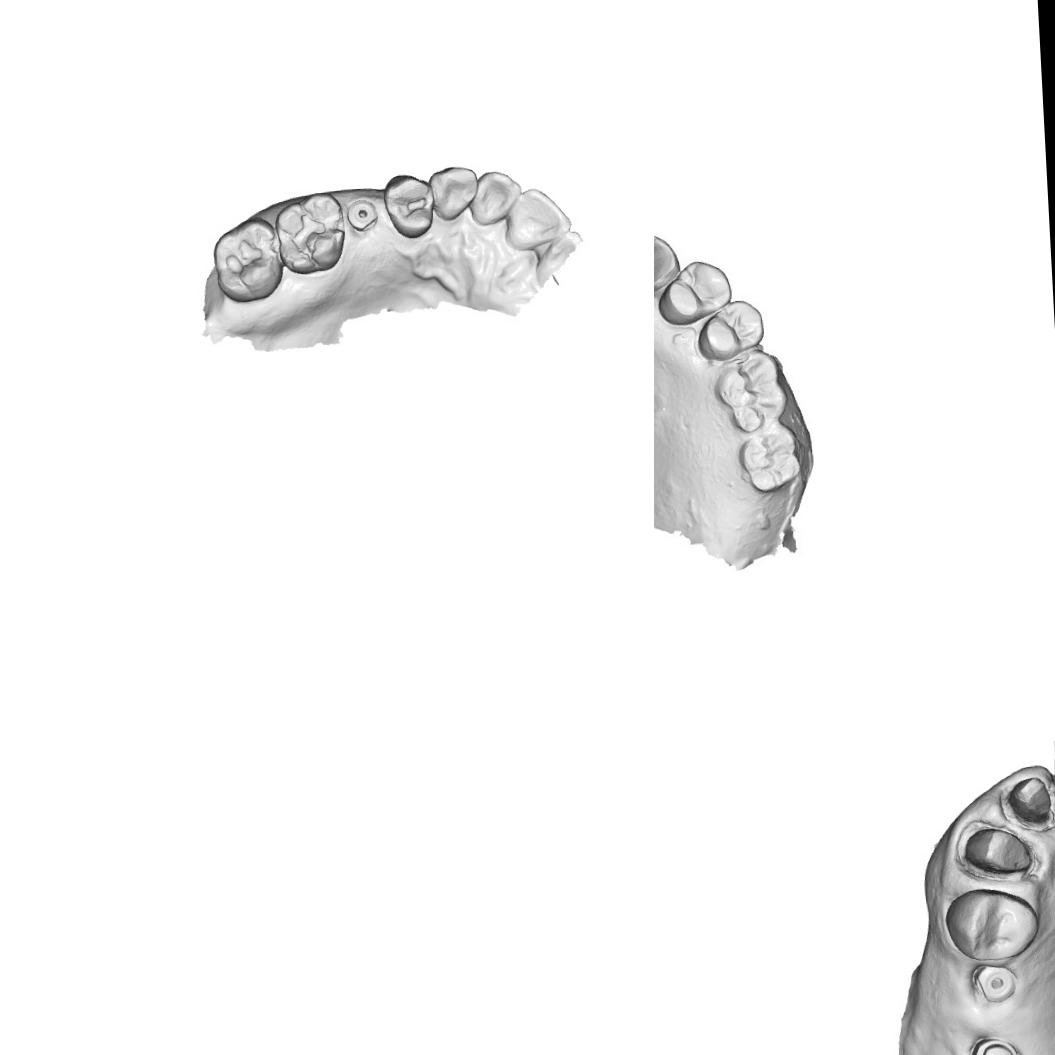canine: (426, 164, 480, 222), (654, 224, 687, 287)
crown: (956, 820, 1038, 884), (1000, 771, 1055, 830)
implant: (974, 963, 1018, 1004), (344, 196, 380, 234)
implant_minus: (966, 1035, 1021, 1055)
incisor: (501, 186, 572, 252), (467, 168, 524, 227)
molar: (208, 214, 286, 304), (272, 190, 347, 276), (720, 349, 785, 431), (738, 425, 804, 497)
premolar: (940, 882, 1042, 964), (656, 257, 732, 326), (695, 298, 767, 364), (380, 171, 436, 240)
